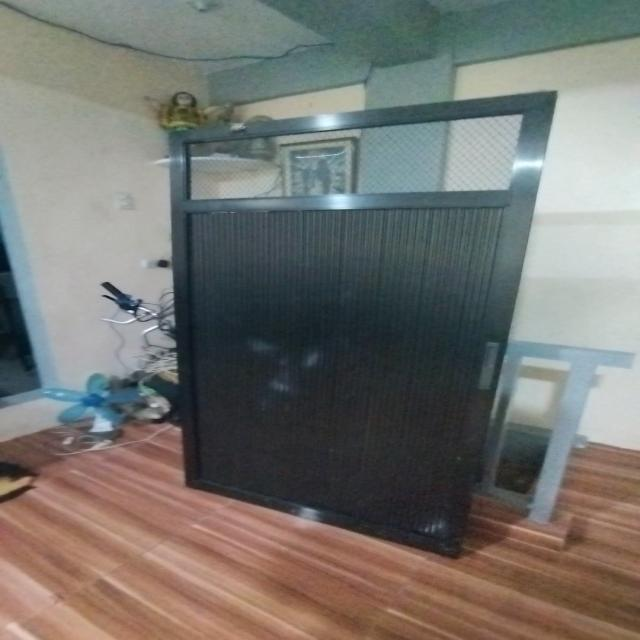door: (161, 89, 576, 561)
